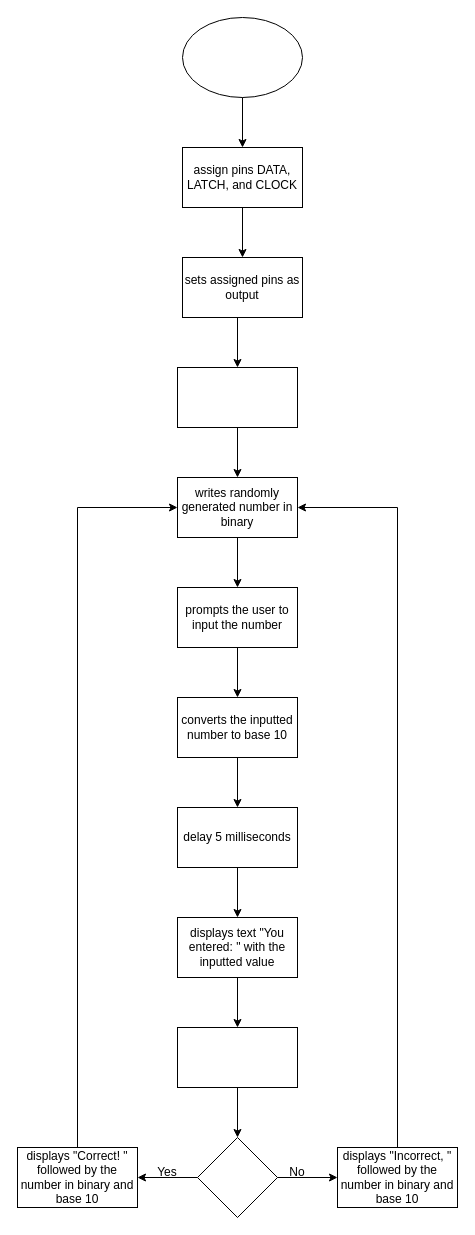
The diagram is 475 pixels wide and 1235 high, and some of its shapes have lost their labels. Each missing label, with the box of its shape:
begin random number generation: (176, 366, 298, 428)
compares inputted value to the randomly generated number: (176, 1026, 298, 1088)
does answer == number?: (196, 1136, 278, 1218)
Start: (182, 16, 302, 98)
